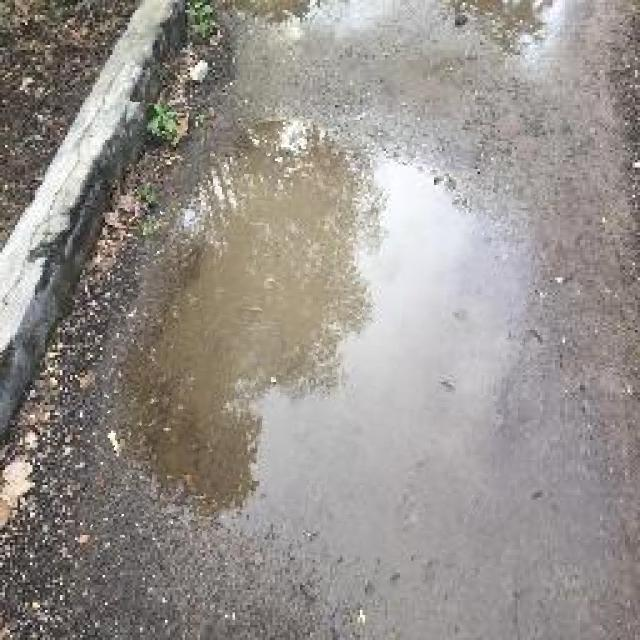puddle: (100, 110, 534, 561)
